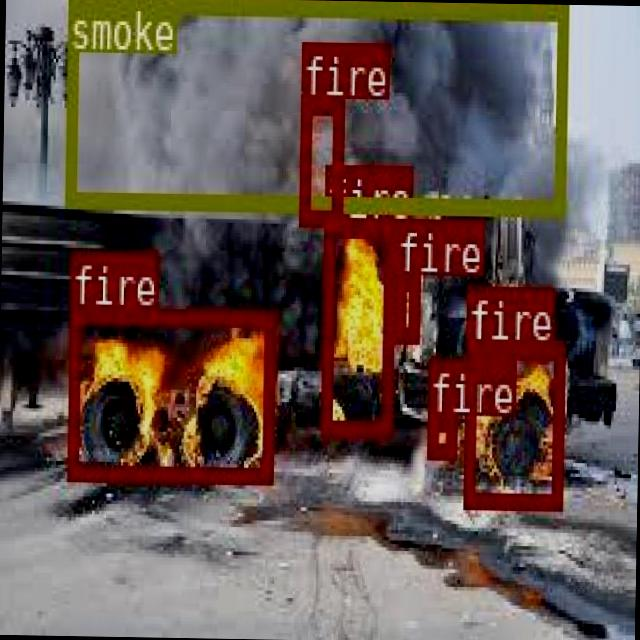fire: (65, 306, 272, 479), (462, 339, 563, 505), (319, 217, 392, 433), (298, 95, 340, 222), (392, 274, 418, 339), (426, 414, 456, 454)
smoke: (62, 0, 567, 214)
